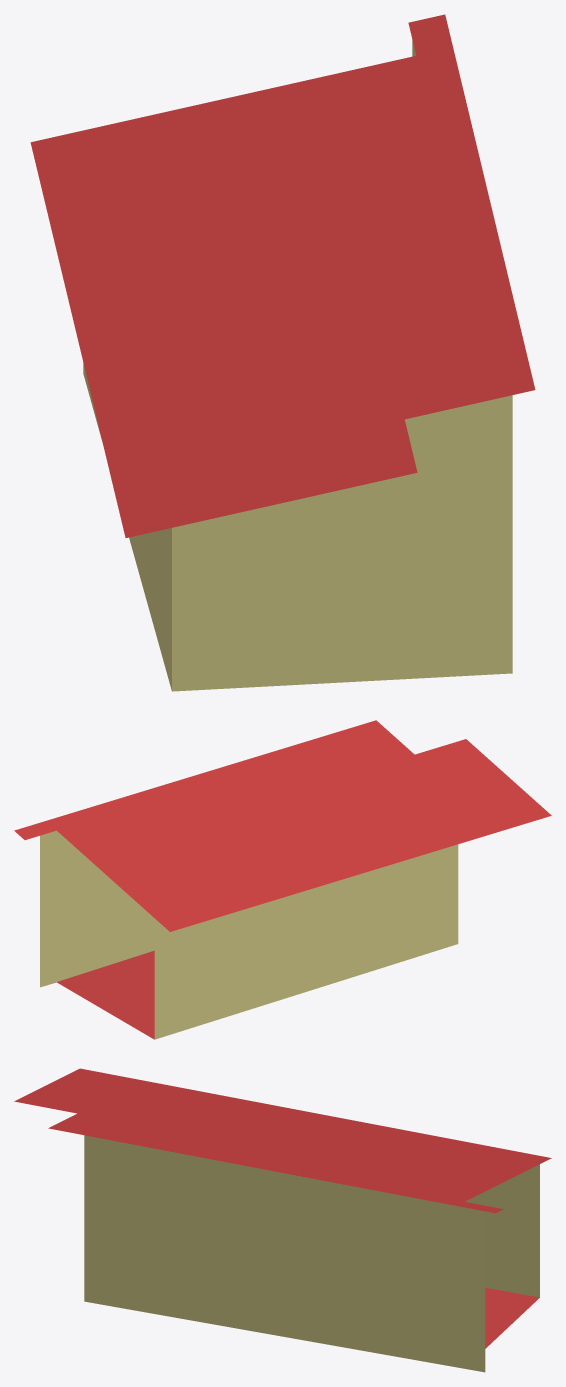
3 views of the same model, one above another, from view 1: azimuth 30°, elevation 25°; view 2: azimuth 150°, elevation 25°; view 3: azimuth 270°, elevation 25° (orthographic). The views are drawn at different scales.
Bounding box in the file's own units: 16.32 × 19.83 × 6.93.
